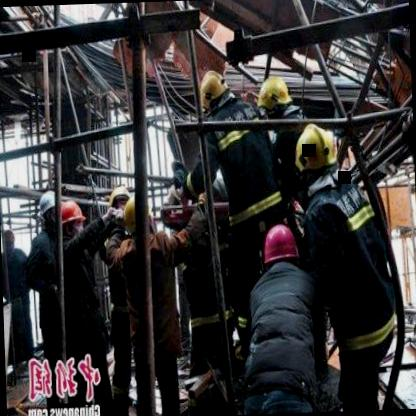helmet: (289, 120, 337, 188), (259, 223, 299, 281), (258, 74, 293, 124), (199, 72, 226, 118), (58, 200, 86, 241), (40, 189, 61, 233), (108, 186, 134, 220)
